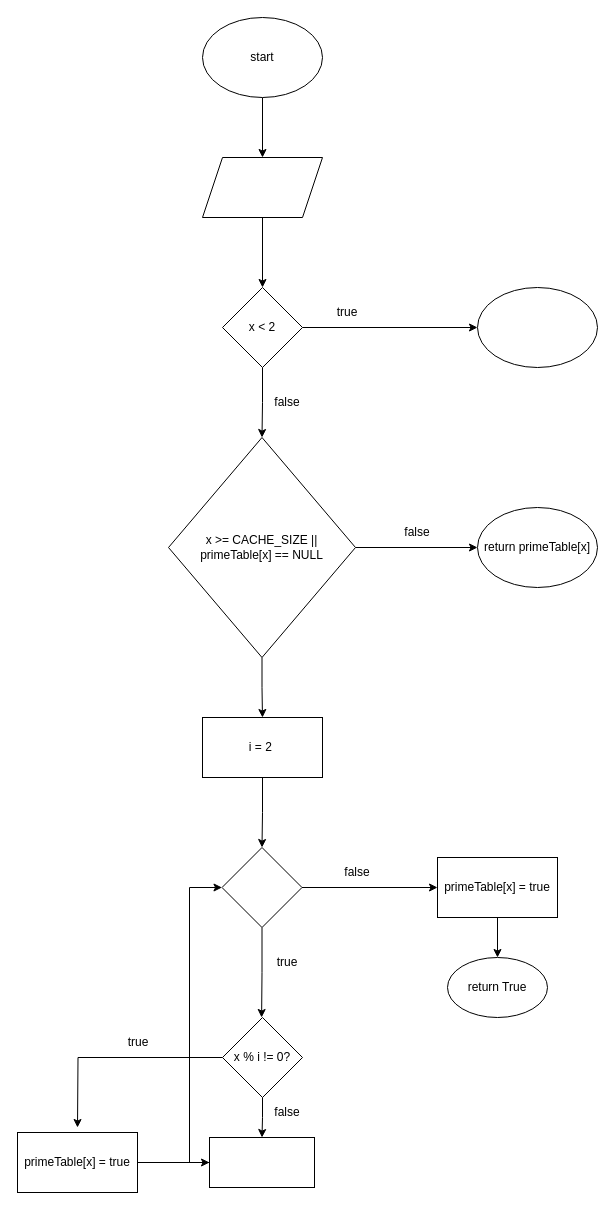
This 615x1210 diagram has some shape labels left out. Each missing label, with the centre of its shape:
i ++: the point at 261,1162
i < x / 2: the point at 261,887
isPrime(int x): the point at 262,187
return null: the point at 537,327
